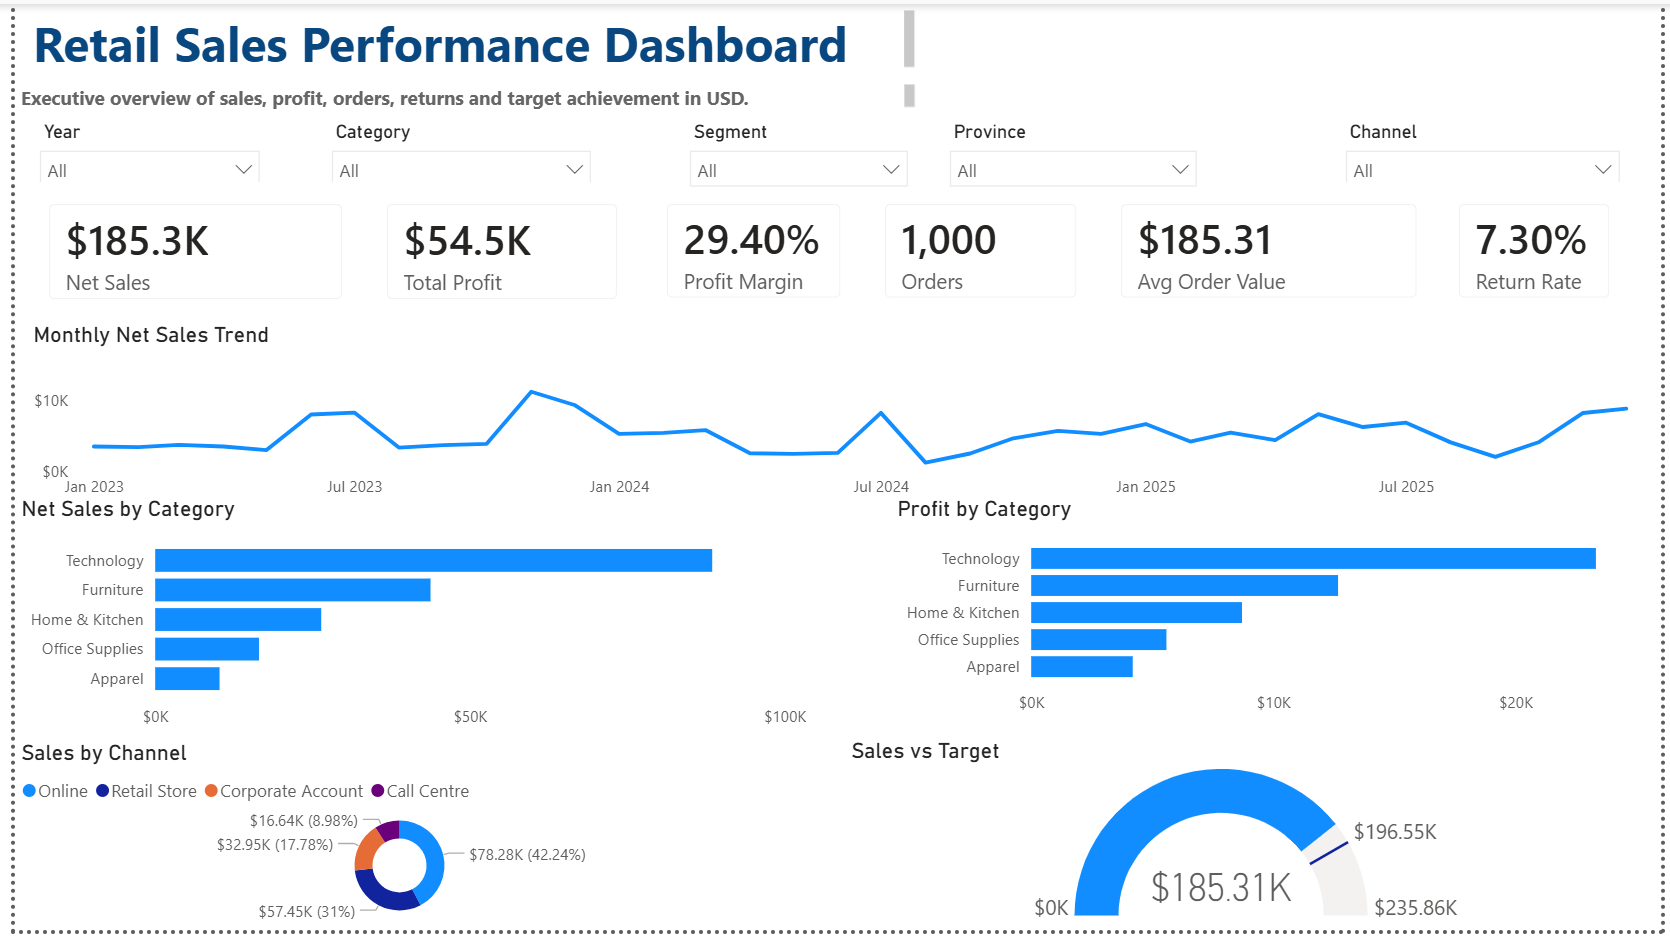

This screenshot's page, from the dashboard's own definition file:
{"tool":"powerbi","page":{"name":"Executive Overview","canvas":[1280,720],"ordinal":0},"visuals":[{"type":"textbox","box":[9.5,0,694.9,56.8],"z":0},{"type":"cardVisual","fields":{"Data":["Fact_Sales.Net Sales Display"]},"box":[9.3,138.4,262.8,108.9],"z":1000},{"type":"cardVisual","fields":{"Data":["Fact_Sales.Total Profit Display"]},"box":[272.1,138.4,213,108.9],"z":2000},{"type":"cardVisual","fields":{"Data":["Fact_Sales.Profit Margin"]},"box":[489.8,138.4,169.5,107.3],"z":3000},{"type":"cardVisual","fields":{"Data":["Fact_Sales.Orders Display"]},"box":[659.4,138.4,183.5,107.3],"z":4000},{"type":"cardVisual","fields":{"Data":["Fact_Sales.Average Order Value Display"]},"box":[842.9,138.4,264.4,107.3],"z":5000},{"type":"cardVisual","fields":{"Data":["Fact_Sales.Return Rate"]},"box":[1105.8,138.4,151.5,107.9],"z":6000},{"type":"textbox","box":[0,56.8,704.4,28.4],"z":7000},{"type":"slicer","fields":{"Values":["Dim_Date.Year"]},"box":[9.5,85.2,191.2,53],"z":8000},{"type":"slicer","fields":{"Values":["Dim_Product.Category"]},"box":[236.7,85.2,221.5,53],"z":9000},{"type":"slicer","fields":{"Values":["Dim_Customer.Province"]},"box":[717.6,85.2,212.1,68.2],"z":10000},{"type":"slicer","fields":{"Values":["Fact_Sales.Channel"]},"box":[1024.4,85.2,232.9,53],"z":11000},{"type":"slicer","fields":{"Values":["Dim_Customer.Segment"]},"box":[515,85.2,189.3,66.3],"z":12000},{"type":"lineChart","title":"Monthly Net Sales Trend","fields":{"Category":["Dim_Date.YearMonth"],"Y":["Fact_Sales.Net Sales"]},"box":[9.3,247.3,1270.5,146.2],"z":13000},{"type":"clusteredBarChart","title":"Net Sales by Category","fields":{"Category":["Dim_Product.Category"],"Y":["Fact_Sales.Net Sales"]},"box":[0,382.5,620.5,189.7],"z":14000},{"type":"clusteredBarChart","title":"Profit by Category","fields":{"Category":["Dim_Product.Category"],"Y":["Fact_Sales.Total Profit"]},"box":[681.1,382.5,598.7,178.8],"z":15000},{"type":"donutChart","title":"Sales by Channel","fields":{"Category":["Fact_Sales.Channel"],"Y":["Fact_Sales.Net Sales"]},"box":[0,573,598,146.4],"z":16000},{"type":"gauge","title":"Sales vs Target","fields":{"Y":["Fact_Sales.Net Sales"],"TargetValue":["Sales_Targets.Sales Target"],"MaxValue":["Fact_Sales.Gauge Max"]},"box":[644.7,571.5,622.9,147.9],"z":17000}]}

Visuals, with their boxes in screenshot pixels (x1, y1, x2, y2), scaled from the page's 1280x720 canvas onto the 1670x939 screenshot:
textbox: (12,0,919,74)
cardVisual - Fact_Sales.Net Sales Display: (12,180,355,323)
cardVisual - Fact_Sales.Total Profit Display: (355,180,633,323)
cardVisual - Fact_Sales.Profit Margin: (639,180,860,320)
cardVisual - Fact_Sales.Orders Display: (860,180,1100,320)
cardVisual - Fact_Sales.Average Order Value Display: (1100,180,1445,320)
cardVisual - Fact_Sales.Return Rate: (1443,180,1640,321)
textbox: (0,74,919,111)
slicer - Dim_Date.Year: (12,111,262,180)
slicer - Dim_Product.Category: (309,111,598,180)
slicer - Dim_Customer.Province: (936,111,1213,200)
slicer - Fact_Sales.Channel: (1337,111,1640,180)
slicer - Dim_Customer.Segment: (672,111,919,198)
"Monthly Net Sales Trend" lineChart: (12,323,1669,513)
"Net Sales by Category" clusteredBarChart: (0,499,810,746)
"Profit by Category" clusteredBarChart: (889,499,1669,732)
"Sales by Channel" donutChart: (0,747,780,938)
"Sales vs Target" gauge: (841,745,1654,938)
